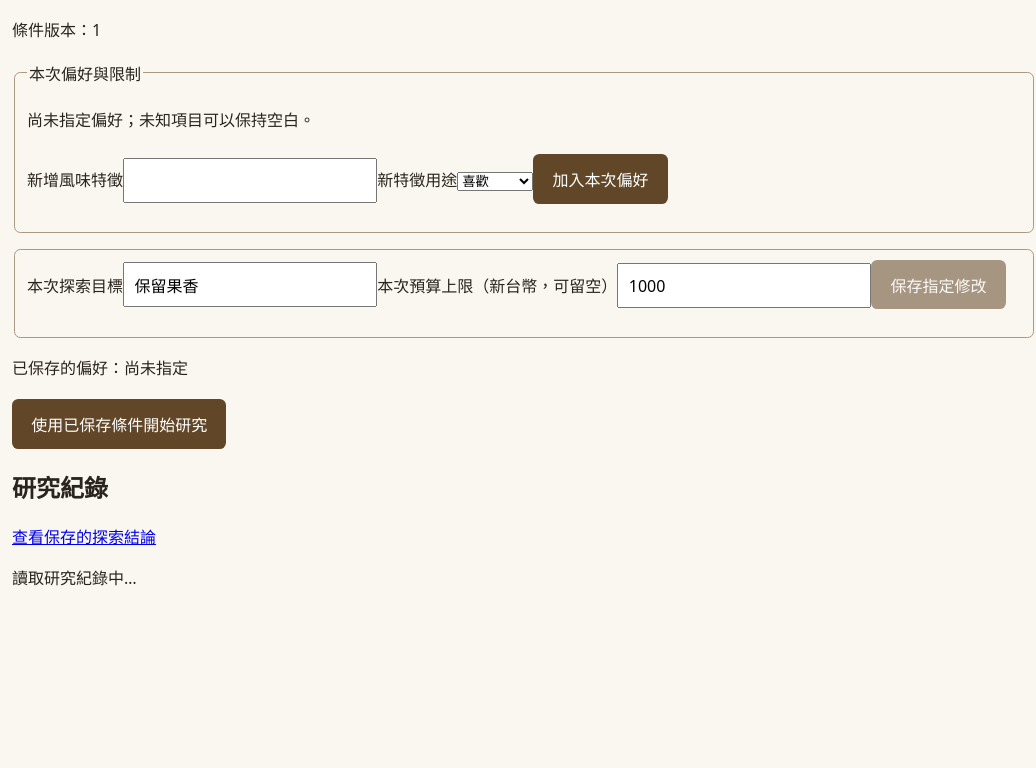
Test case: pending receipt retry resubmits the same command to recover an unstarted workflow
The width and height of the screenshot is (1036, 768).
Replace the text in the number field labelled "本次預算上限（新台幣，可留空）" with "900" at (744, 286), box [617, 263, 871, 308]
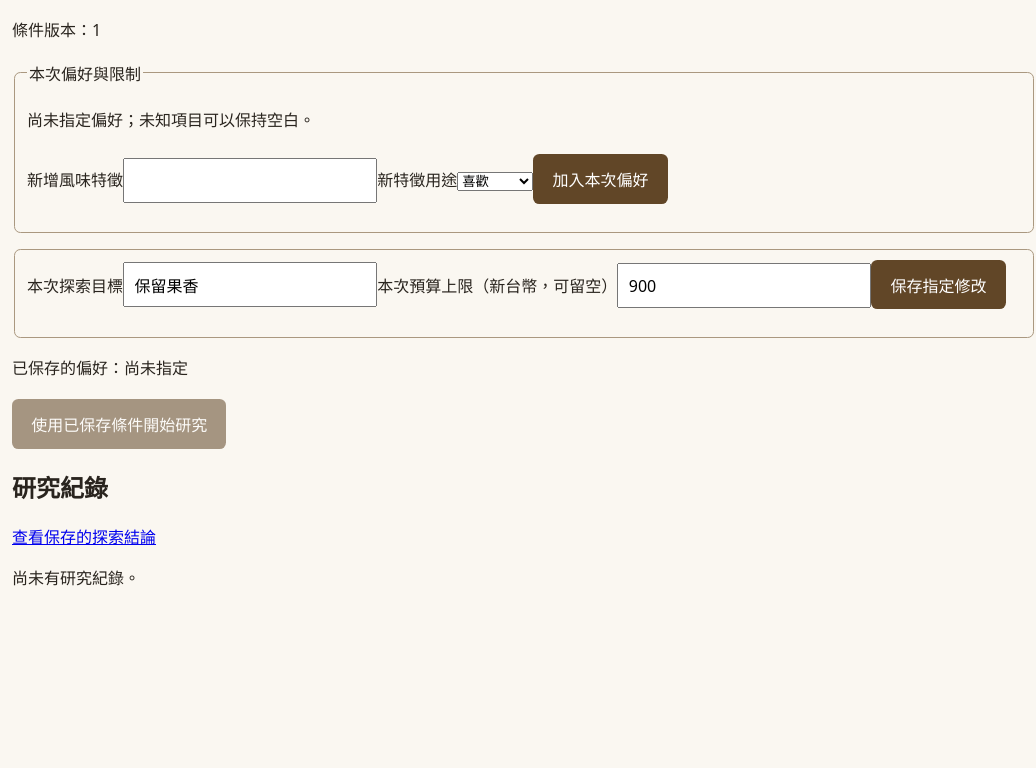
Click the button "保存指定修改".
click(939, 284)  # box [871, 260, 1006, 309]
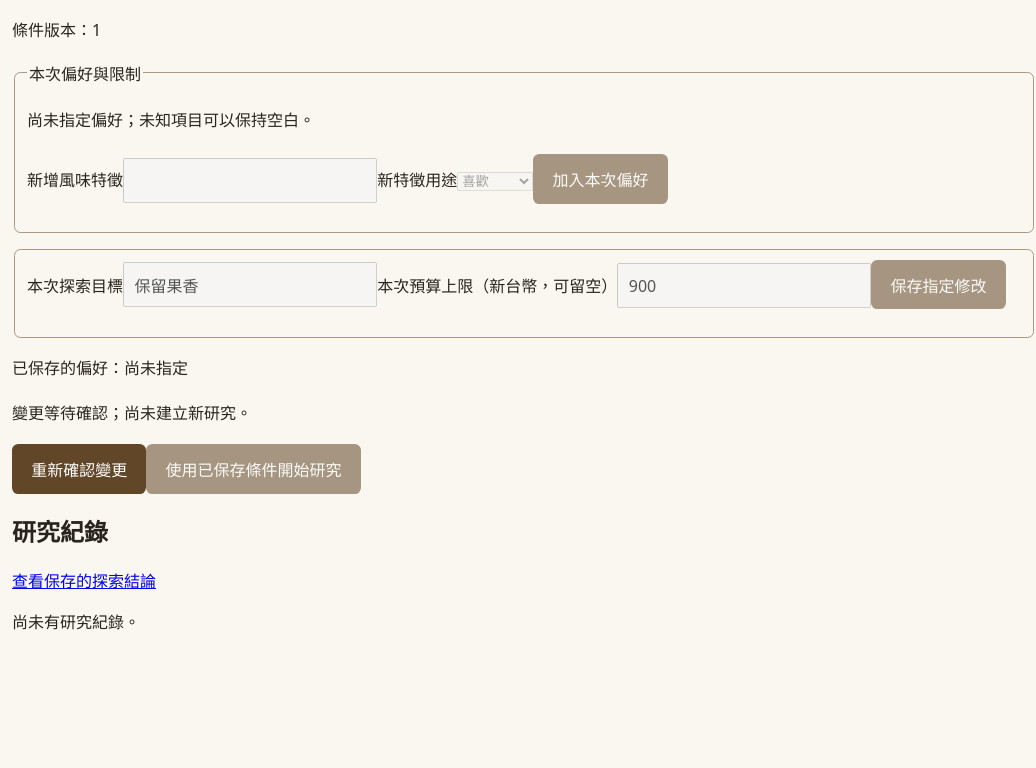
Check: the text "變更等待確認；尚未建立新研究。" is shown, box [12, 402, 252, 424]
Click the button "重新確認變更".
click(79, 469)  # box [12, 444, 146, 494]
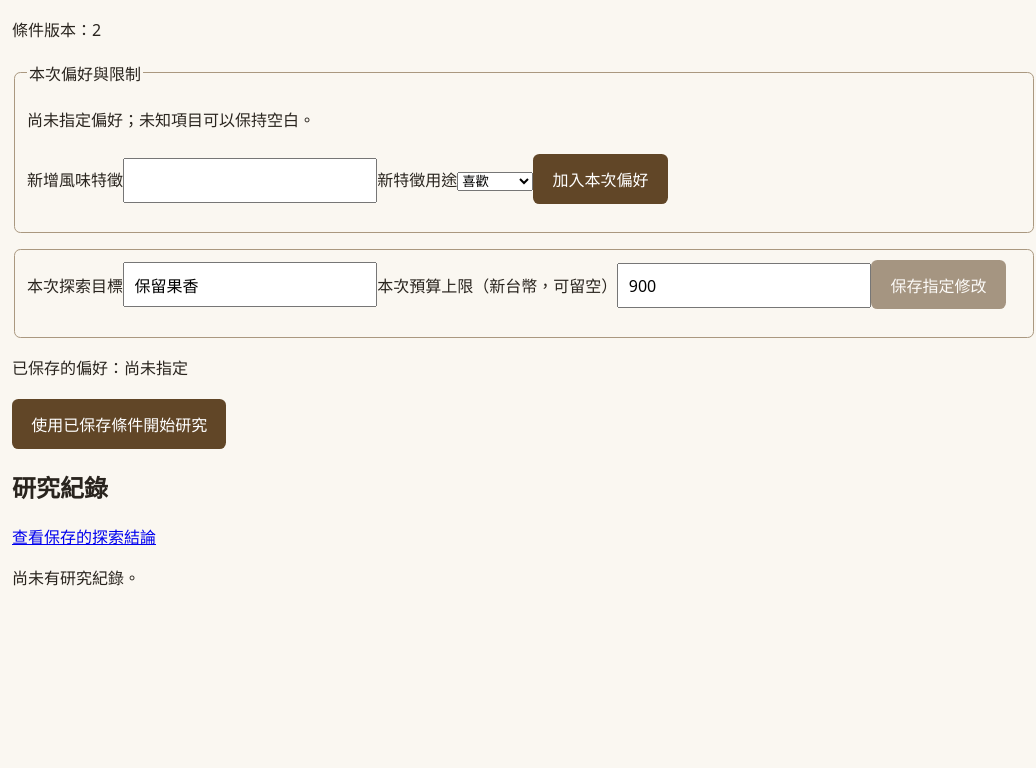
Check: the text "條件版本：2" is shown, box [12, 19, 101, 41]
